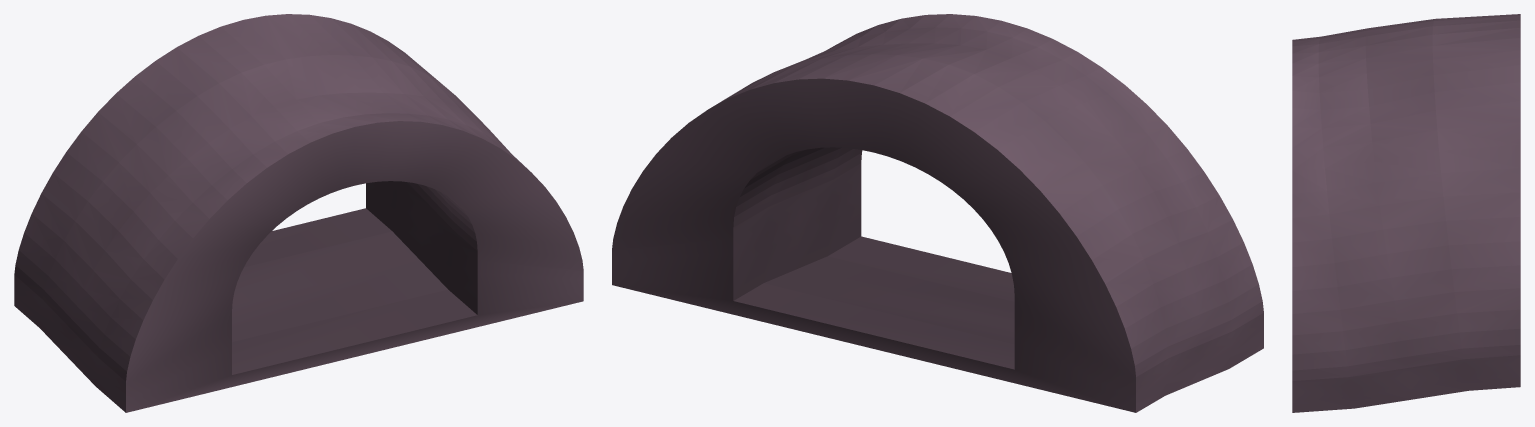
File: grade_up_terrain_lod1.glb
The picture shows the model from 3 angles, left to right: view 1: azimuth 30°, elevation 25°; view 2: azimuth 150°, elevation 25°; view 3: azimuth 270°, elevation 25°; orthographic projection. The views are drawn at different scales.
Parts seen in each view (by area): view 1: TerrainRoof.013; view 2: TerrainRoof.013; view 3: TerrainRoof.013.
Boxes of the visible parts, <box> form: TerrainRoof.013: <box>14,14,583,412</box>; TerrainRoof.013: <box>612,14,1263,412</box>; TerrainRoof.013: <box>1292,14,1520,412</box>.
Bounding box in the file's own units: 28.4 × 15.15 × 12.
